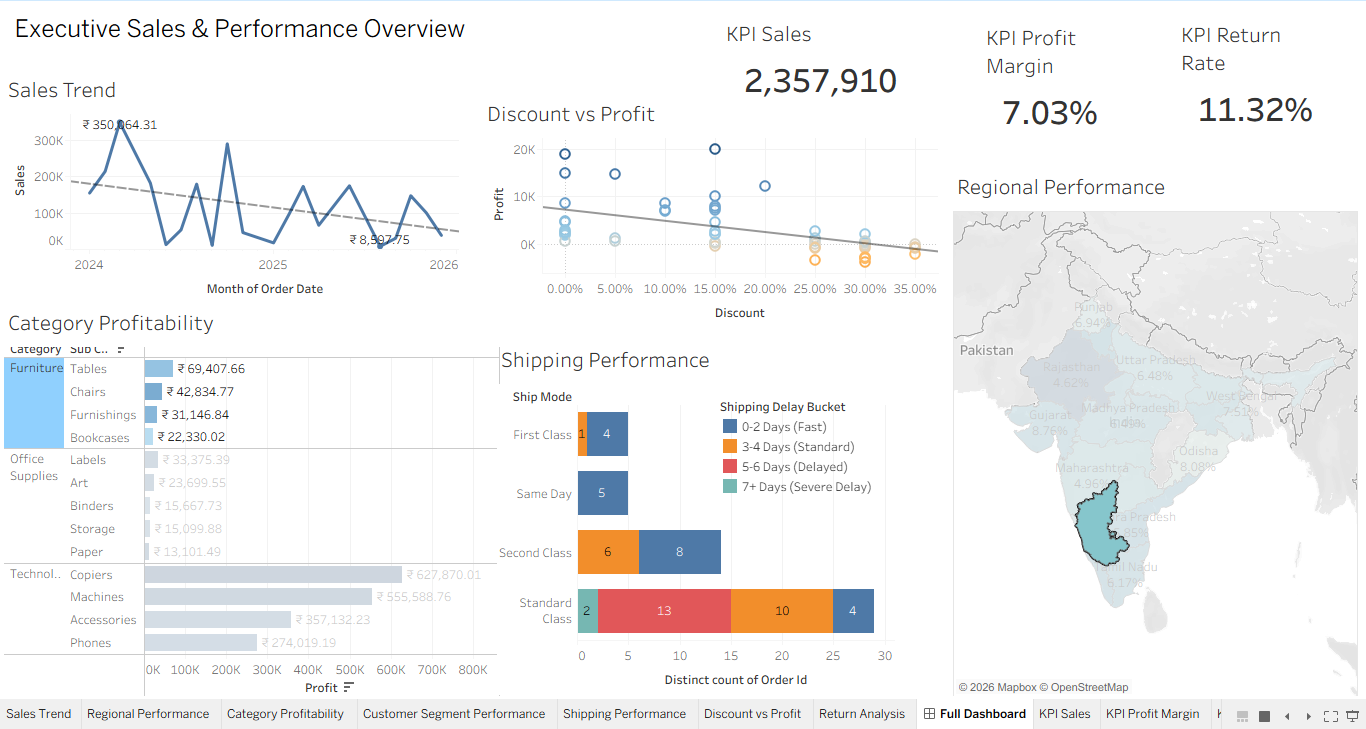

What the dashboard file says about the page in this screenshot:
{"tool":"tableau","page":{"name":"Full Dashboard","canvas":[1000,1000],"units":"permille","ordinal":0},"visuals":[{"type":"title","box":[6.9,14.5,986.1,70.7]},{"type":"worksheet","title":"KPI Sales","mark":"Automatic","box":[528.6,19.9,187.2,173.9]},{"type":"worksheet","title":"KPI Return Rate","mark":"Automatic","box":[861.4,21.7,131.7,213.8]},{"type":"worksheet","title":"KPI Profit Margin","mark":"Automatic","box":[719.2,25.4,141.2,217.4]},{"type":"worksheet","title":"Sales Trend","mark":"Line","rows":["sales"],"cols":["order_date"],"box":[2.6,99.6,333.6,333.3]},{"type":"worksheet","title":"Discount vs Profit","mark":"Automatic","rows":["profit"],"cols":["discount"],"box":[353.6,134.1,333.6,333.3]},{"type":"worksheet","title":"Regional Performance","mark":"Multipolygon","box":[697.6,239.1,296.4,757.2]},{"type":"worksheet","title":"Category Profitability","mark":"Automatic","rows":["category","sub_category"],"cols":["profit"],"box":[2.6,434.8,363.1,563.4]},{"type":"worksheet","title":"Shipping Performance","mark":"Automatic","rows":["ship_mode"],"cols":["order_id"],"box":[363.9,487.3,291.2,507.2]},{"type":"legend","title":"Shipping Performance","param":"[federated.1ejny500qm5ceq168wov0175pajv].[none:Calculation_1584137038376964:nk]","box":[526.9,568.8,135.2,177.5]}]}

Visuals, with their boxes on the dashboard's canvas, which has no fixed pixel size, in thousandths of its width and height (x1, y1, x2, y2). These are canvas units, not pixel positions in the 1366x729 screenshot, which may show the page scaled, cropped or inside an application window:
title: (7, 14, 993, 85)
"KPI Sales" worksheet: (529, 20, 716, 194)
"KPI Return Rate" worksheet: (861, 22, 993, 236)
"KPI Profit Margin" worksheet: (719, 25, 860, 243)
"Sales Trend" worksheet (Line marks): (3, 100, 336, 433)
"Discount vs Profit" worksheet: (354, 134, 687, 467)
"Regional Performance" worksheet (Multipolygon marks): (698, 239, 994, 996)
"Category Profitability" worksheet: (3, 435, 366, 998)
"Shipping Performance" worksheet: (364, 487, 655, 994)
"Shipping Performance" legend: (527, 569, 662, 746)
